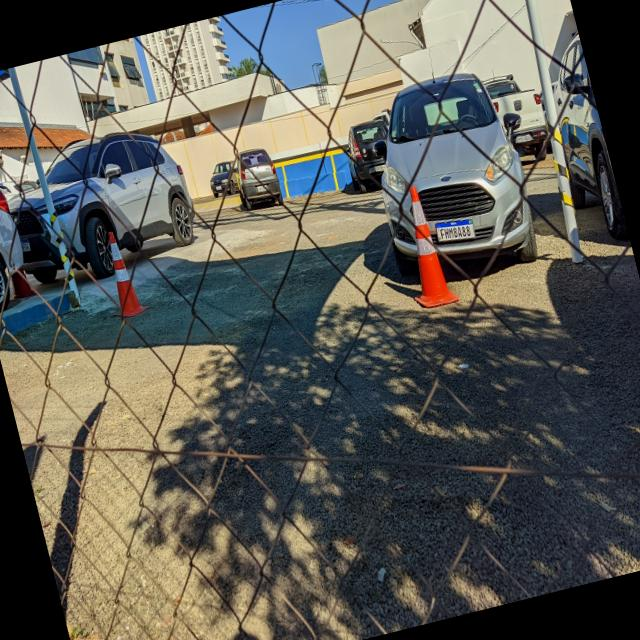cone: (386, 179, 461, 313), (95, 224, 151, 320), (2, 259, 37, 301)
